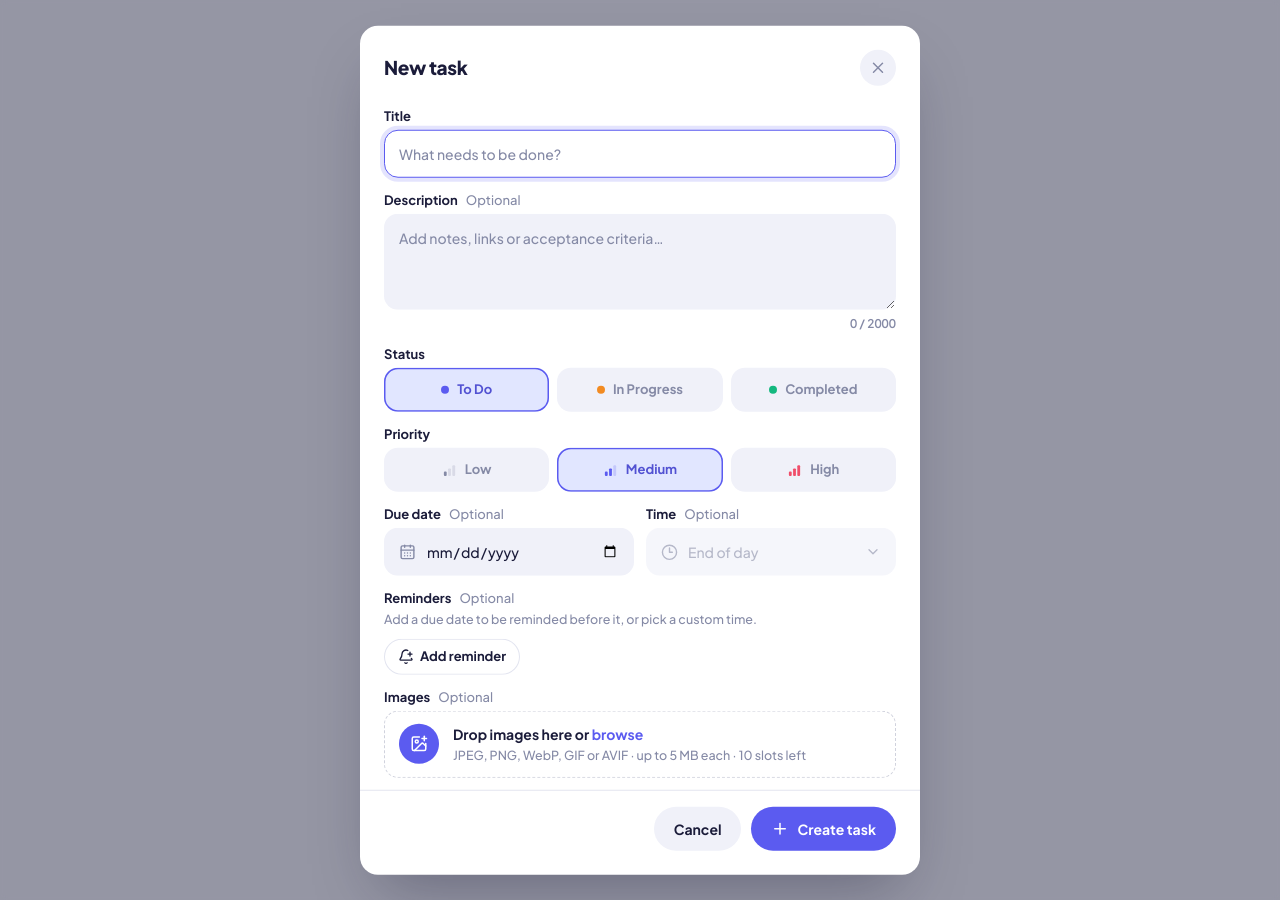
Test: TaskFormDialog reminders › offers a custom time when the task has no due date
Expected: the text "Add a due date to be reminded before it" is shown, [384,611,757,627]
Click the button "Add reminder" at x=452, y=656, box [384,638,520,674]
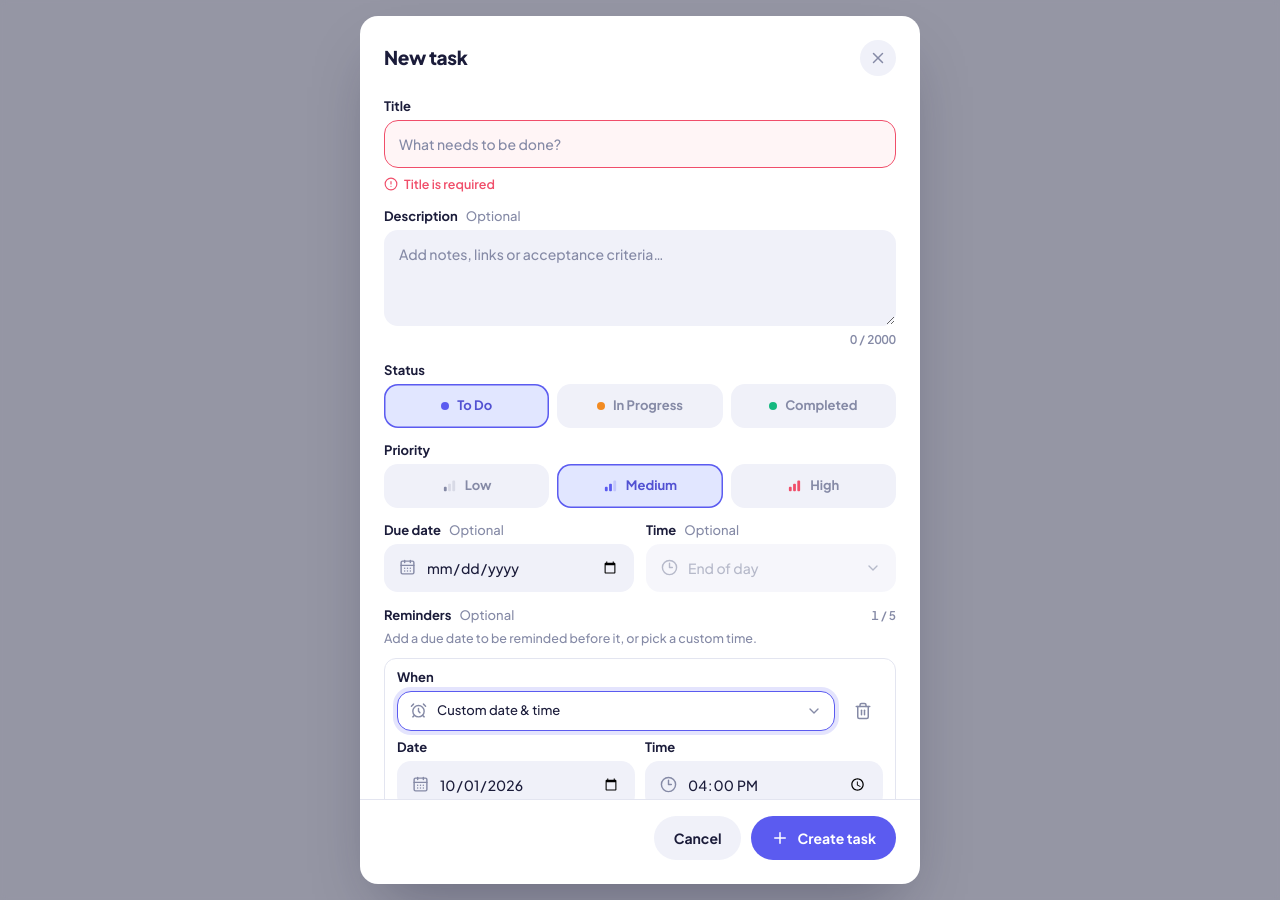
Now the dropdown labelled "When" shows "Custom date & time", box [437,692,822,728]
Now the date field labelled "Date" is not empty, box [439,762,620,799]
